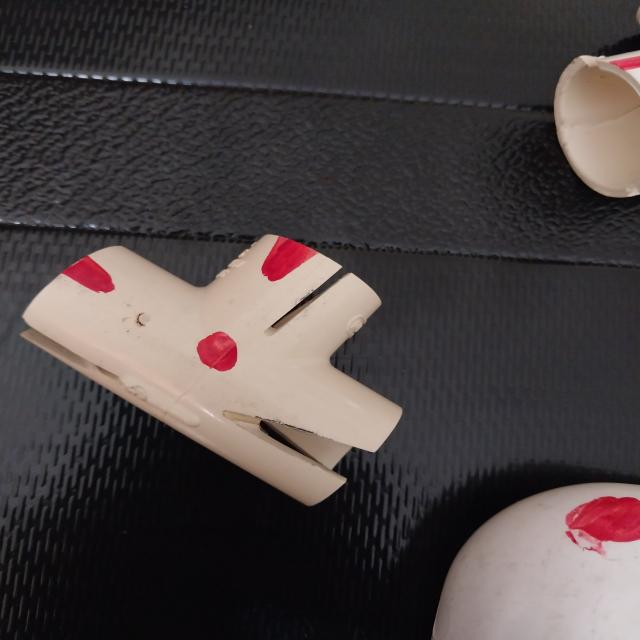Defective: (104, 302, 332, 425), (229, 412, 361, 482), (574, 16, 640, 96), (270, 276, 346, 331), (262, 248, 323, 299), (570, 505, 640, 545), (260, 241, 312, 280), (65, 260, 117, 297), (195, 333, 243, 373), (271, 239, 313, 265)
L Joint: (431, 477, 634, 637)
T Joint: (28, 235, 401, 501)
